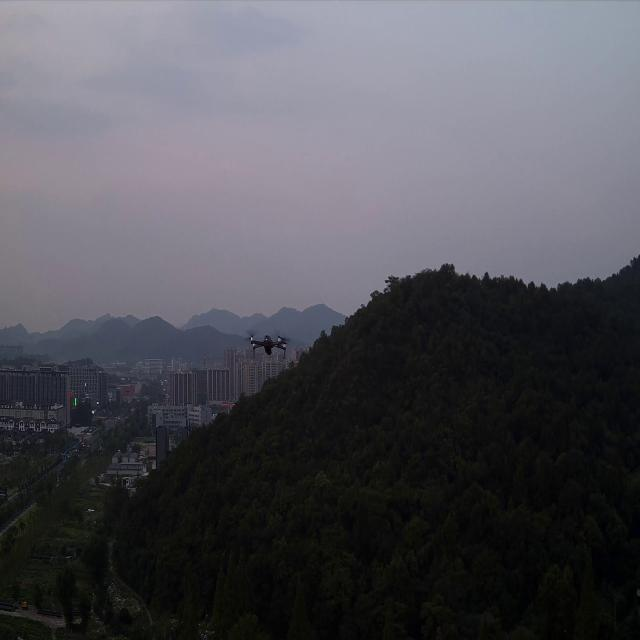UAV: (242, 328, 289, 362)
